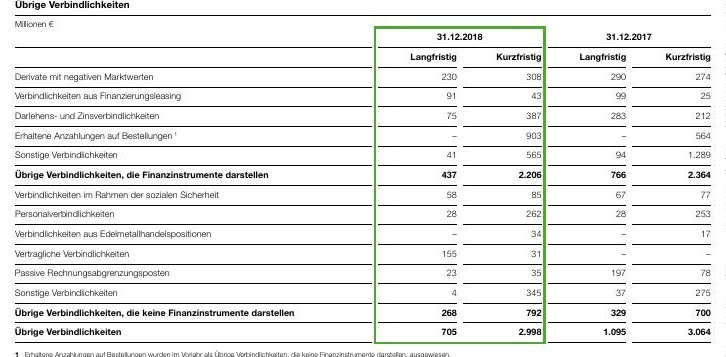table: (0, 0, 726, 357)
